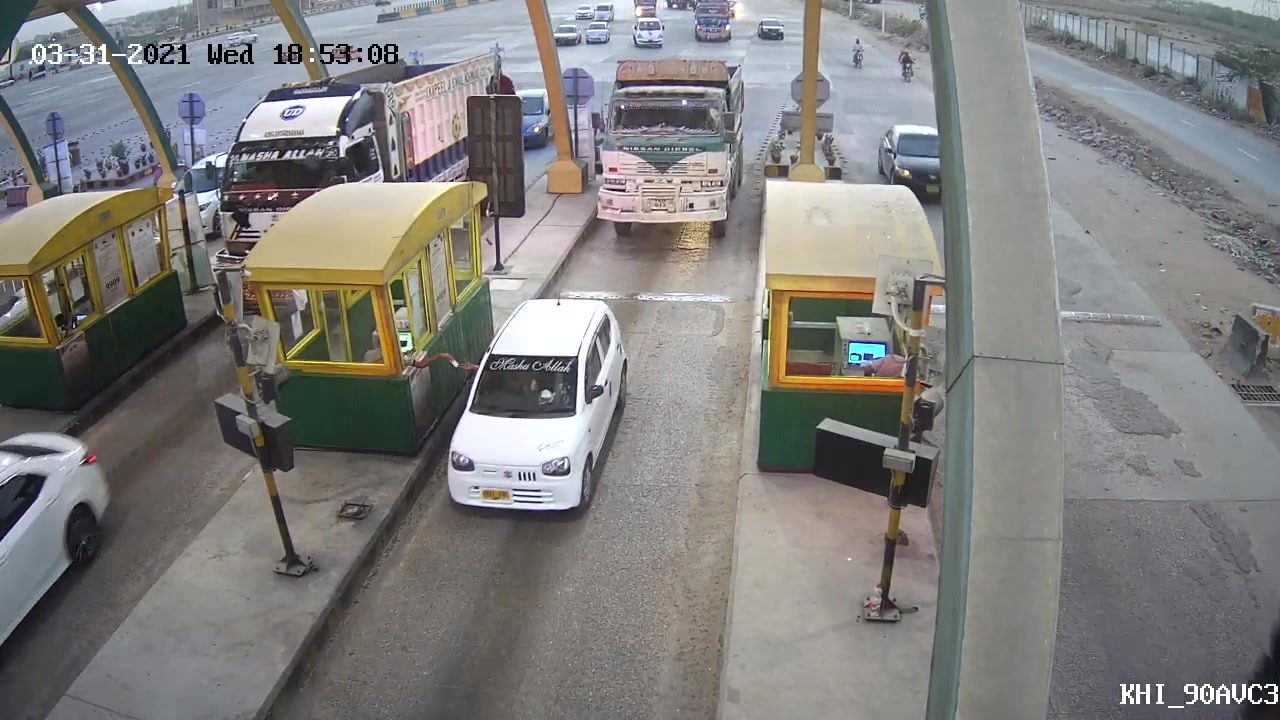F1: (437, 293, 631, 524)
F5: (592, 53, 750, 242)
